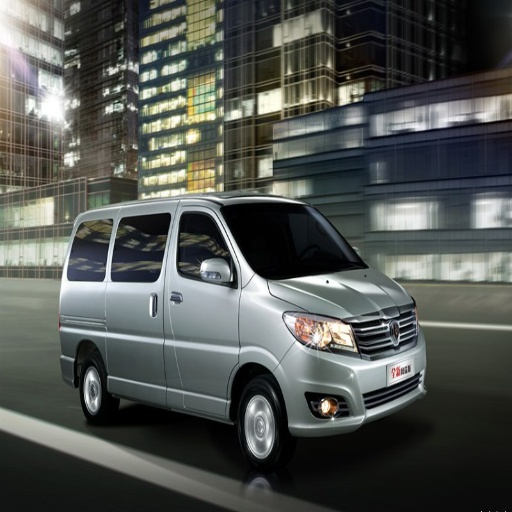front_bumper: (276, 310, 428, 436)
front_right_door: (167, 203, 240, 416)
front_right_light: (284, 309, 356, 352)
